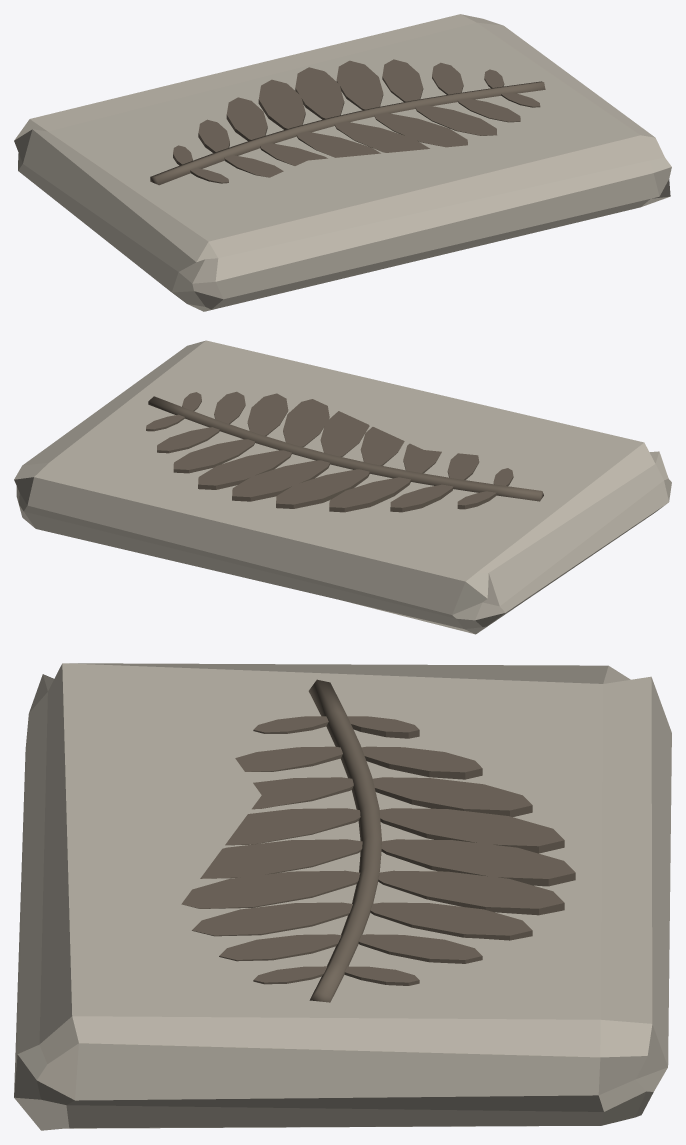
The model's file is fossil-fern-fossil.glb.
The picture shows the model from 3 angles, top to bottom: view 1: azimuth 30°, elevation 25°; view 2: azimuth 150°, elevation 25°; view 3: azimuth 270°, elevation 25°; orthographic projection. The views are drawn at different scales.
Parts seen in each view (by area): view 1: fossil; view 2: fossil; view 3: fossil.
Boxes of the visible parts, x1,y1,x2,y2 form: fossil: (14,14,671,311); fossil: (14,340,671,634); fossil: (14,663,671,1130).
Bounding box in the file's own units: 0.3482 × 0.0503 × 0.2432.
